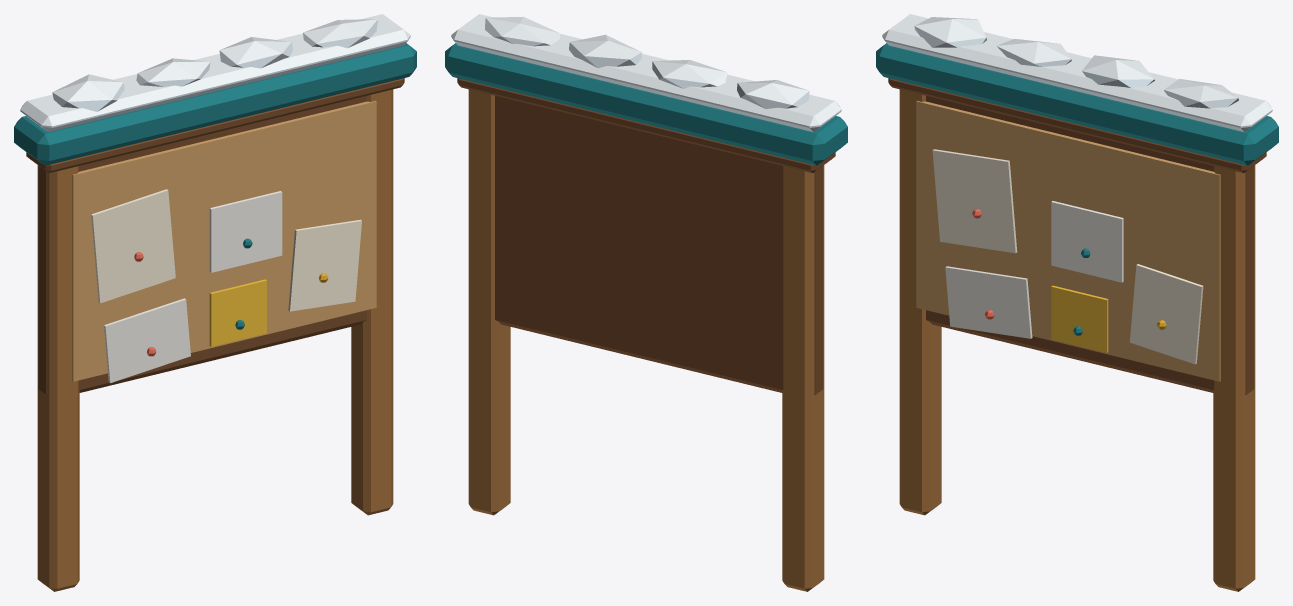
The model's file is notice_board_club.glb.
The picture shows the model from 3 angles, left to right: view 1: azimuth 30°, elevation 25°; view 2: azimuth 150°, elevation 25°; view 3: azimuth 330°, elevation 25°; orthographic projection.
Visible parts, largest first — view 1: notice_board_club; view 2: notice_board_club; view 3: notice_board_club.
Part boxes in pixels (x1,y1,x2,y2): notice_board_club: (14,14,416,591); notice_board_club: (445,14,847,591); notice_board_club: (876,14,1278,591).
Bounding box in the file's own units: 1.5 × 1.88 × 0.22.
